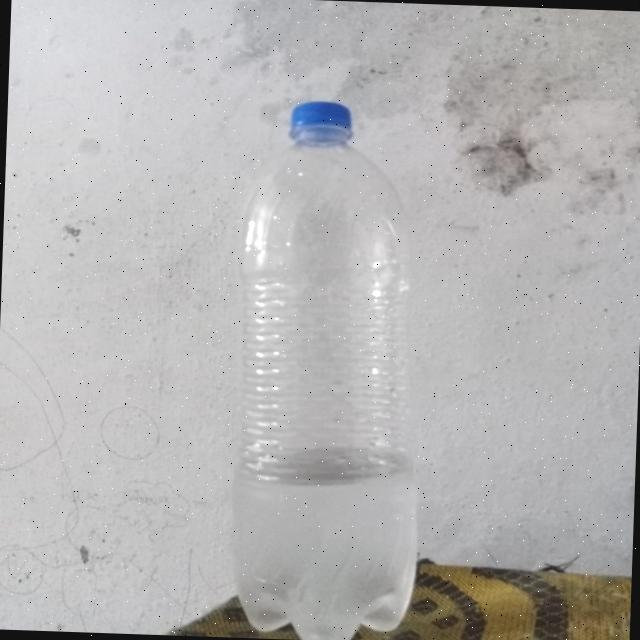bottle: (199, 87, 457, 640)
cap: (273, 90, 369, 158)
